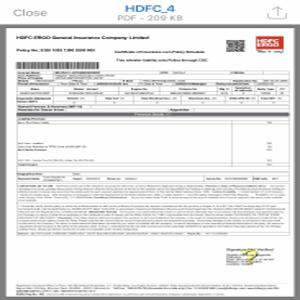image: (252, 35, 287, 52)
table: (16, 112, 289, 182), (17, 70, 289, 111)
text: (13, 33, 151, 44)
